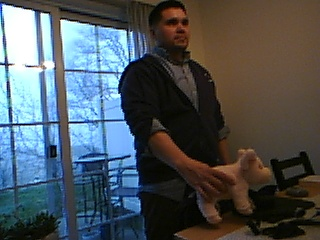piggy: (195, 147, 273, 226)
